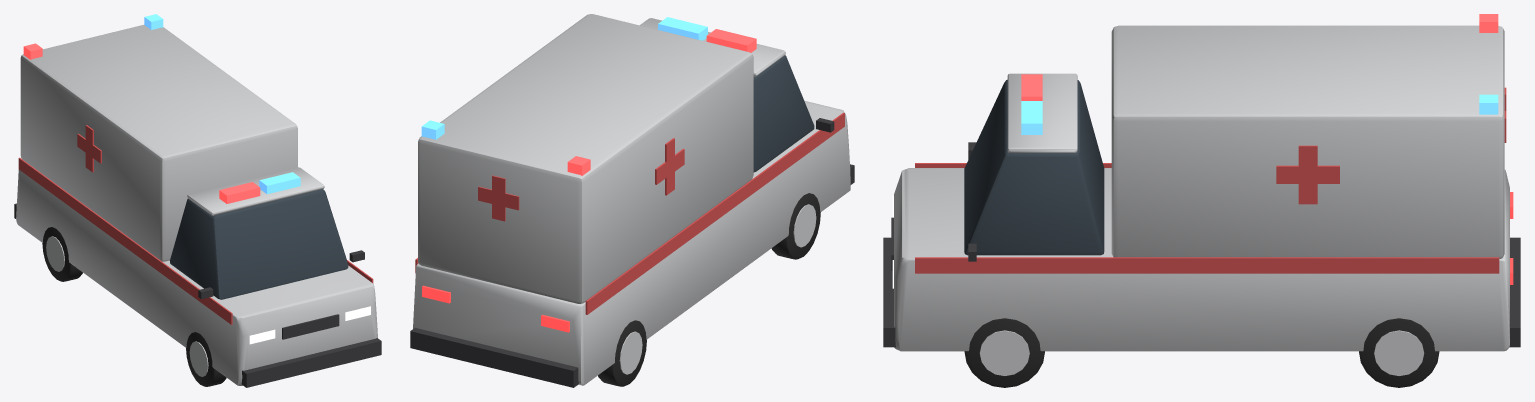
Rendered from car_ambulance.glb.
3 renders of one model, left to right at view 1: azimuth 30°, elevation 25°; view 2: azimuth 150°, elevation 25°; view 3: azimuth 270°, elevation 25°, orthographic. The views are drawn at different scales.
Parts seen in each view (by area): view 1: body, wheel_fr, wheel_rr; view 2: body, wheel_rr, wheel_fr; view 3: body, wheel_fl, wheel_rl.
Part boxes in pixels (x1,y1,x2,y2): body: (14,14,381,387); wheel_fr: (186,332,226,386); wheel_rr: (42,227,82,281); body: (410,14,854,387); wheel_rr: (598,320,646,386); wheel_fr: (771,193,820,259); body: (883,14,1520,351); wheel_fl: (964,318,1044,387); wheel_rl: (1359,318,1439,387).
Bounding box in the file's own units: 2.44 × 2.95 × 6.
